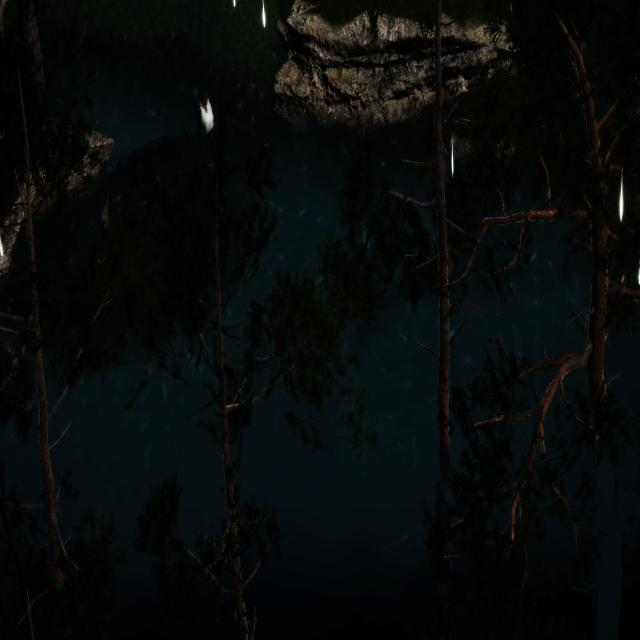Human: (192, 84, 244, 164)
